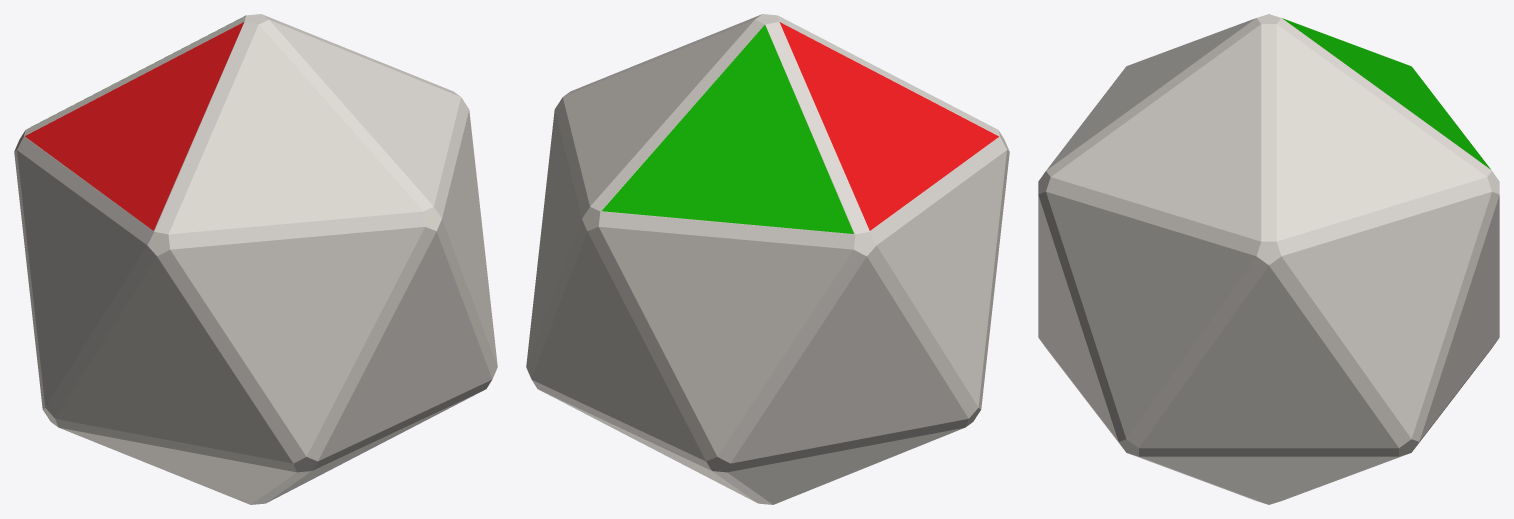
Rendered from dice.fbx.
3 renders of one model, left to right at view 1: azimuth 30°, elevation 25°; view 2: azimuth 150°, elevation 25°; view 3: azimuth 270°, elevation 25°, orthographic.
Visible parts, largest first — view 1: 20, 20_red; view 2: 20, 20_green, 20_red; view 3: 20, 20_green.
Boxes of the visible parts, <box> form: 20: <box>14,14,497,504</box>; 20_red: <box>25,22,243,230</box>; 20: <box>526,14,1009,504</box>; 20_green: <box>601,25,853,233</box>; 20_red: <box>779,22,998,230</box>; 20: <box>1038,14,1499,504</box>; 20_green: <box>1282,18,1490,169</box>.
Bounding box in the file's own units: 177 × 193 × 168.
